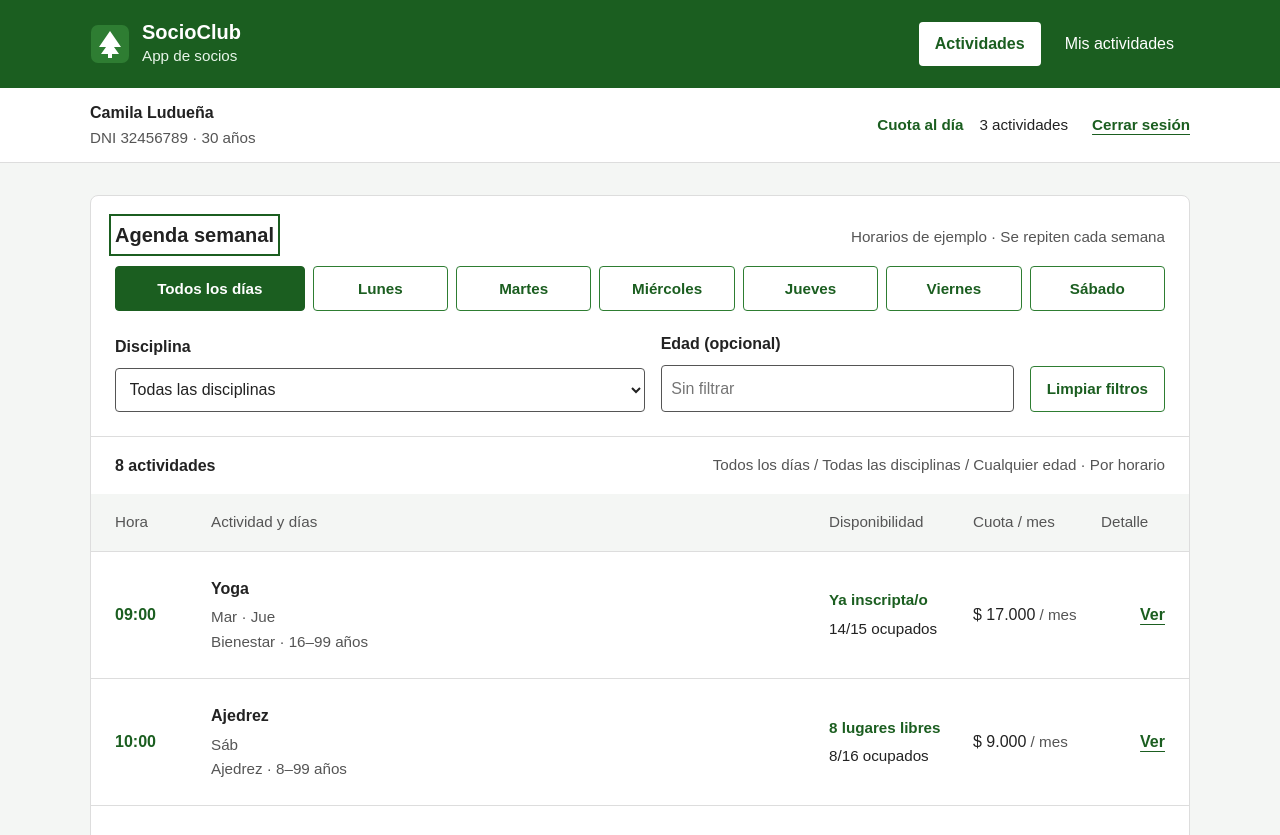
Test: el shell conserva navegación, un único main y un pie honesto sobre los datos
Click the link "Mis actividades". click: coordinates (1119, 44)
box: [1065,35,1174,52]
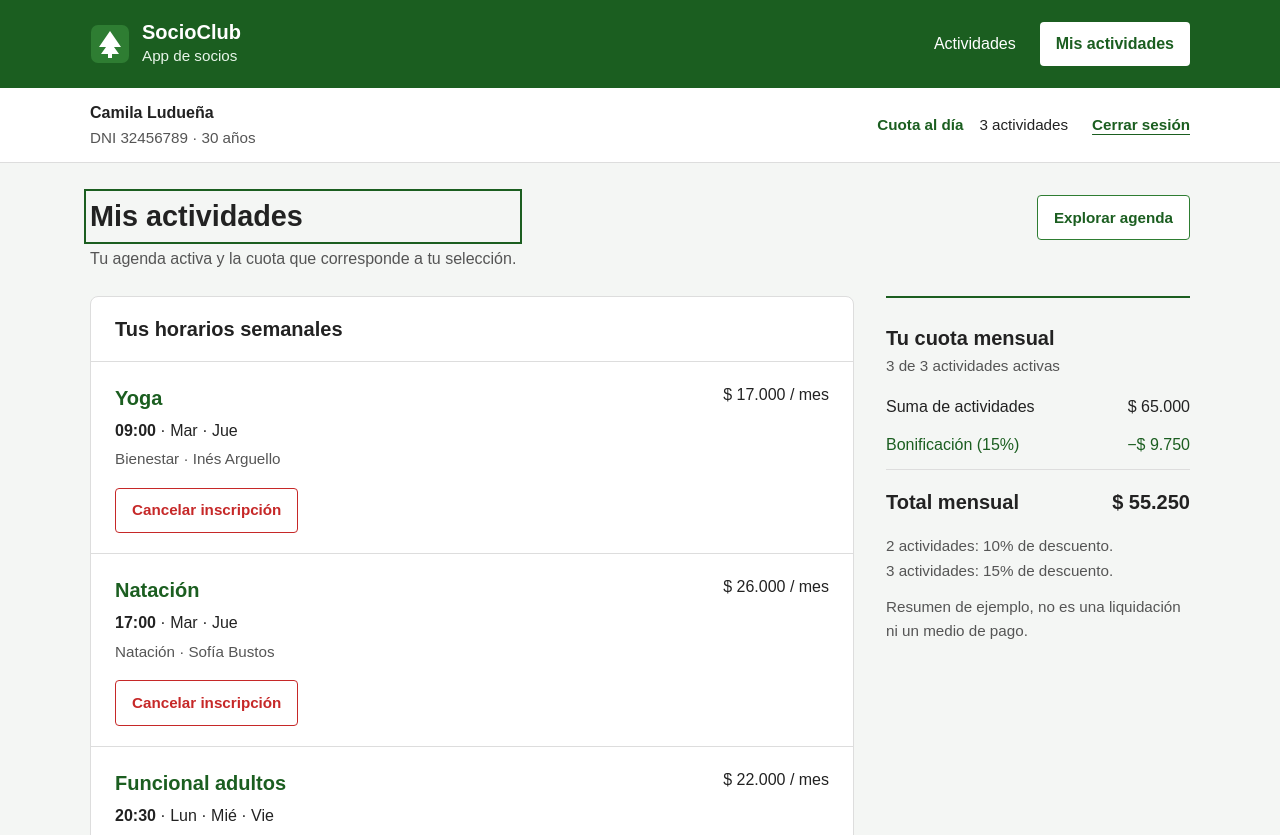
Now the heading "Mis actividades" is shown, box [90,200,303,232]
Now the text "$ 55.250" is shown, box [1112,486,1190,518]
